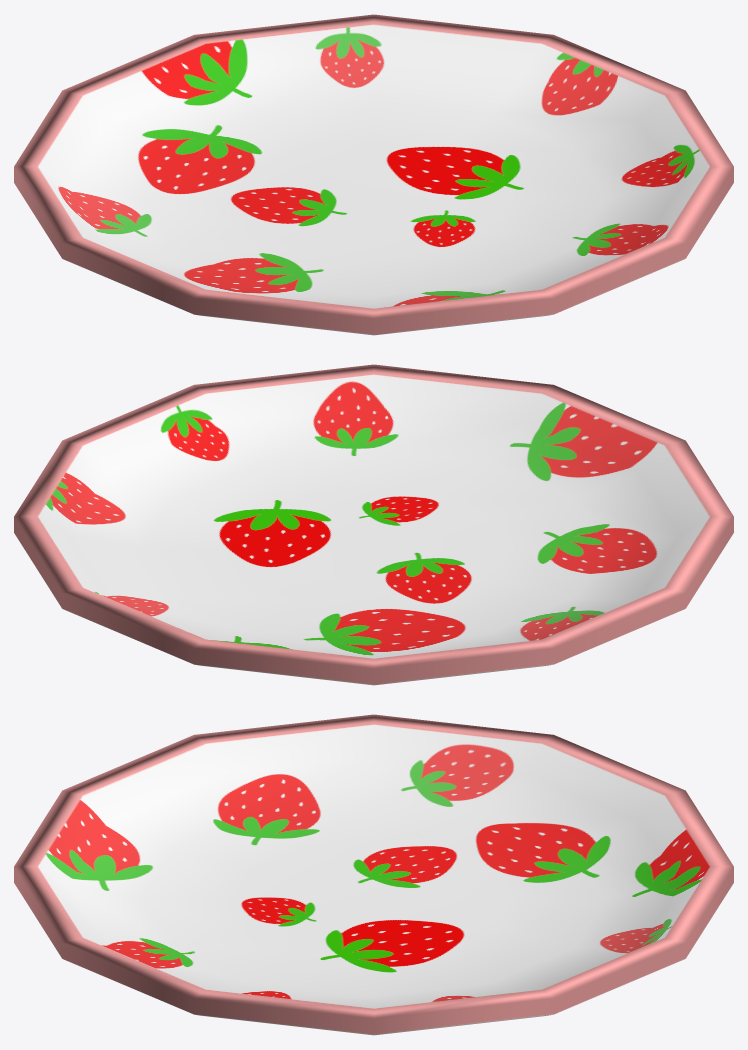
Rendered from Pr_plateFruit_01v3.fbx.
3 renders of one model, top to bottom at view 1: azimuth 30°, elevation 25°; view 2: azimuth 150°, elevation 25°; view 3: azimuth 270°, elevation 25°, orthographic.
Parts seen in each view (by area): view 1: PR_plateFruit_01; view 2: PR_plateFruit_01; view 3: PR_plateFruit_01.
Part boxes in pixels (x1=…): PR_plateFruit_01: x1=14, y1=14, x2=733, y2=335; PR_plateFruit_01: x1=14, y1=364, x2=733, y2=685; PR_plateFruit_01: x1=14, y1=714, x2=733, y2=1035.
Bounding box in the file's own units: 1220 × 125 × 1220.
Materials: 1 (1 with a texture image).
